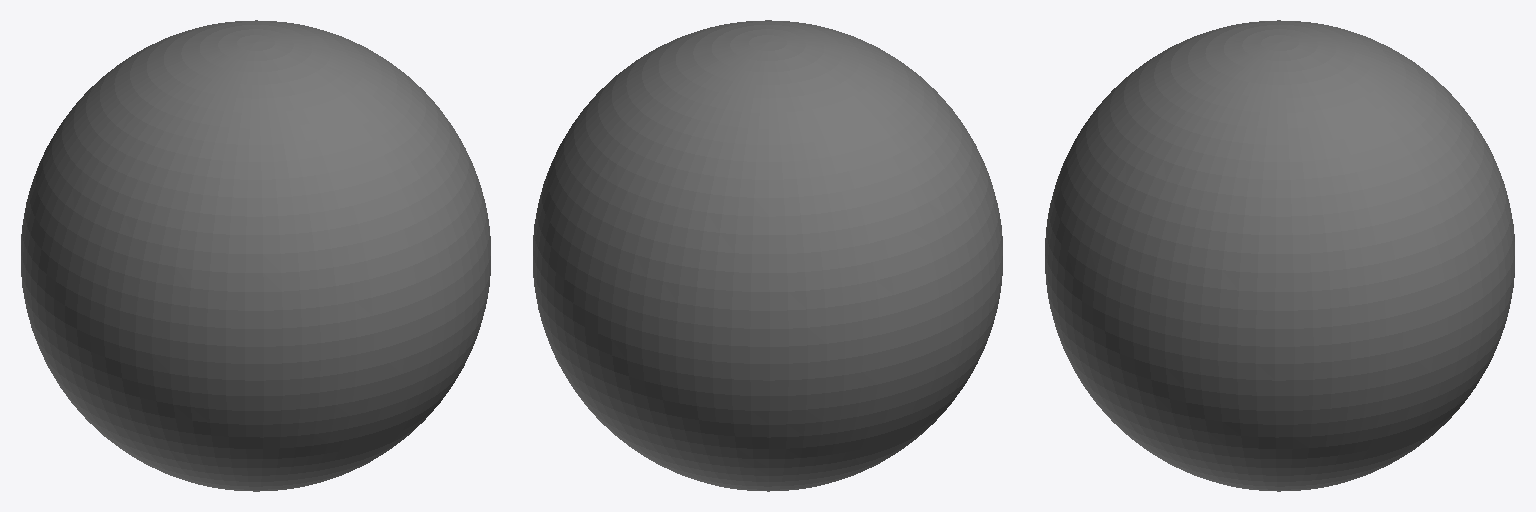
The robot description file, URDF, robot "classification_ball":
<?xml version="1.0"?>
<robot name="classification_ball">
    <link name="ball">
        <visual>
            <geometry>
                <mesh filename="../mesh/TVB_mesh/ball_task_tabletennis.obj" scale="0.01 0.01 0.01"/>                                   
            </geometry>
            <material name="gray">
                <color rgba="0.5 0.5 0.5 1"/>
            </material>
        </visual>
        <collision>
            <geometry>
                <mesh filename="../mesh/TVB_mesh/ball_task_tabletennis.obj" scale="0.01 0.01 0.01"/> 
            </geometry>
            <sdf resolution="32"/>
        </collision>
    </link>
</robot>

--- Render facts (derived) ---
The picture shows the robot from 3 angles, left to right: view 1: azimuth 30°, elevation 25°; view 2: azimuth 150°, elevation 25°; view 3: azimuth 270°, elevation 25°; orthographic projection.
Robot: classification_ball — 1 links, 0 joints (none); root link ball; default pose: all joints at 0.
Visible links, largest first — view 1: ball; view 2: ball; view 3: ball.
Boxes of the visible links, box(x1,y1,x2,y2) form: ball: box(21, 20, 490, 491); ball: box(533, 20, 1002, 491); ball: box(1045, 20, 1514, 491).
Size in the robot's own frame: 0.0004 by 0.0004 by 0.0004 metres.
1 mesh visuals loaded from 1 distinct referenced files (1 OBJ).
